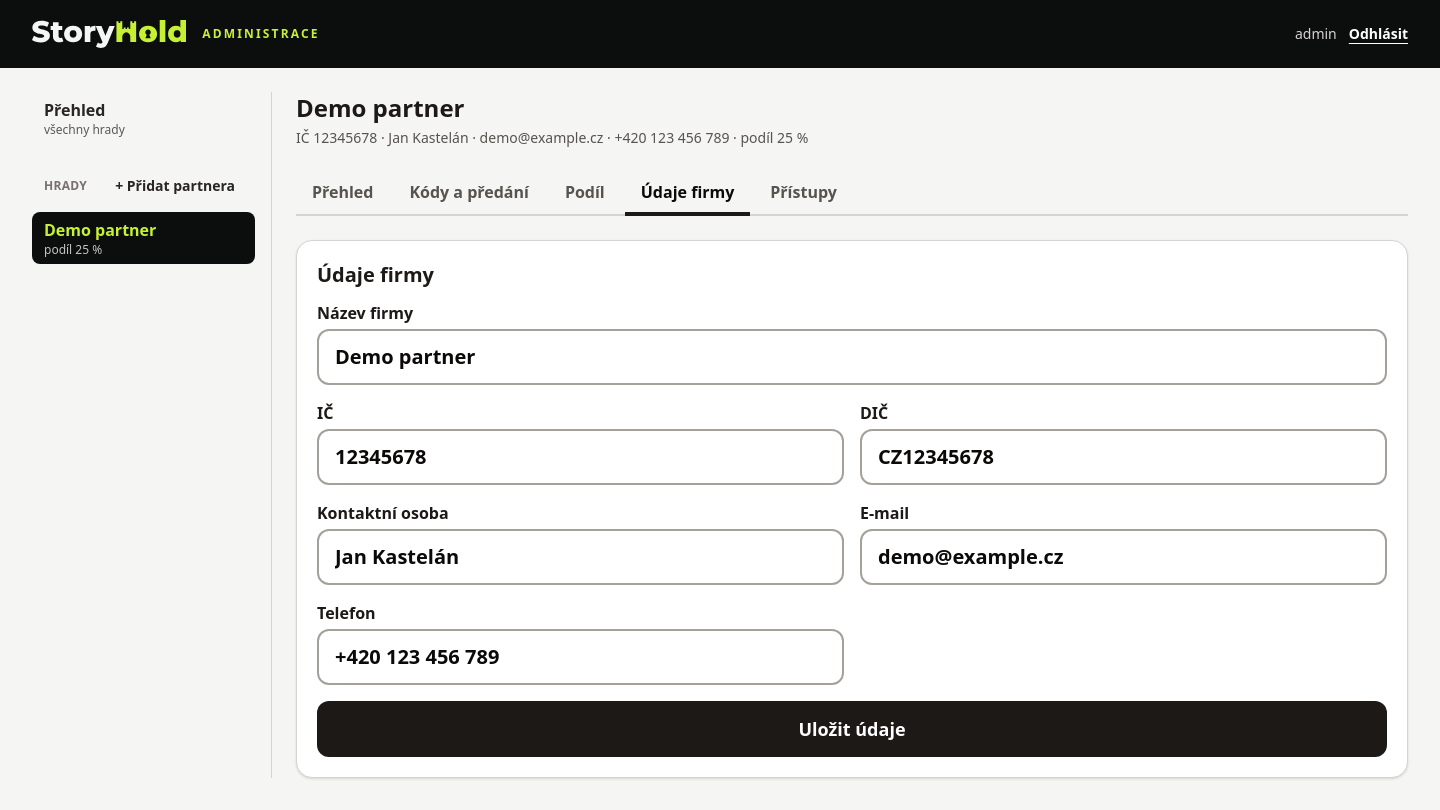
Scenario: AdminPage — operator › edits company details
This screenshot has width=1440, height=810.
Clear the field labelled "Telefon": (580, 657) [317,629,844,685]
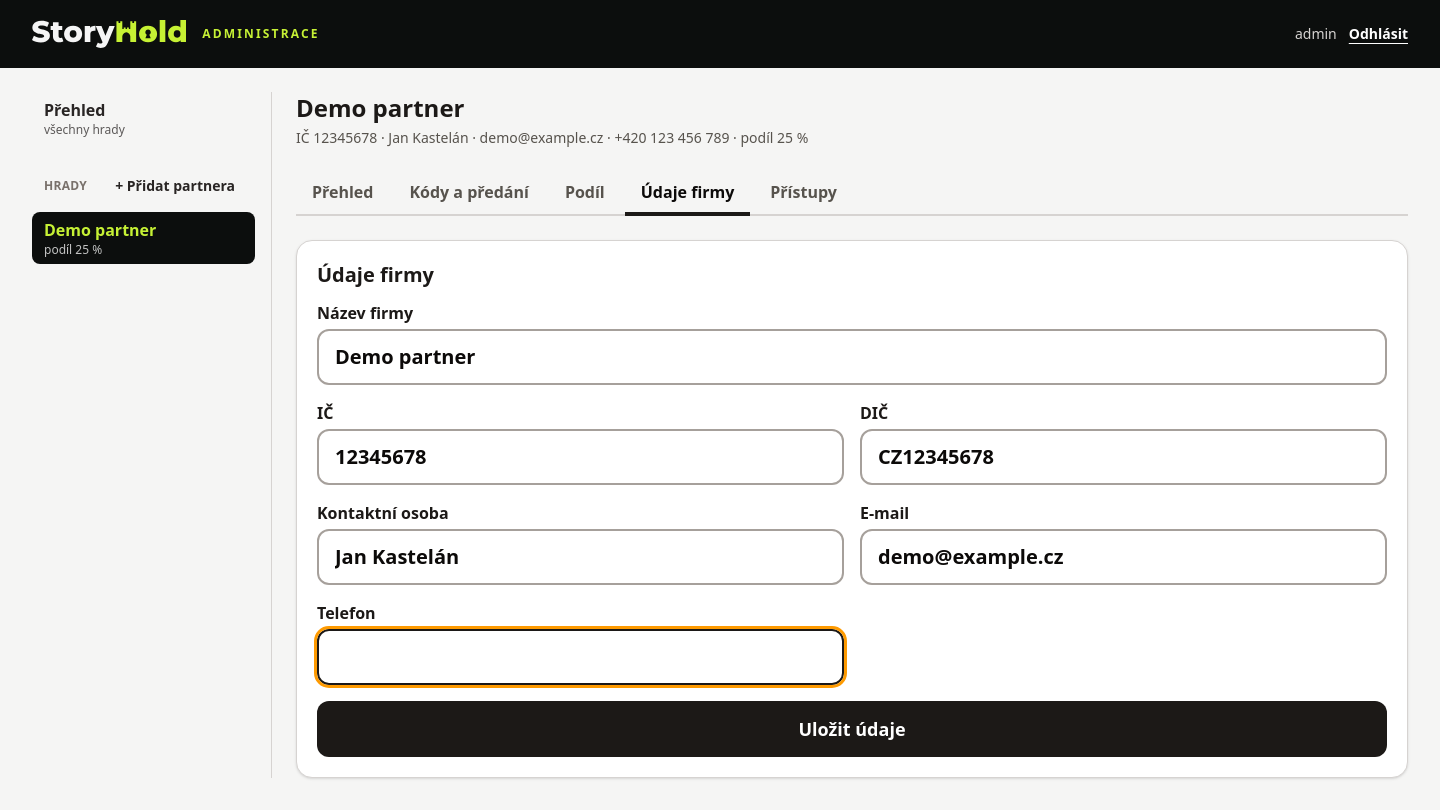
Click the button "Uložit údaje": (852, 729) [317,701,1387,757]
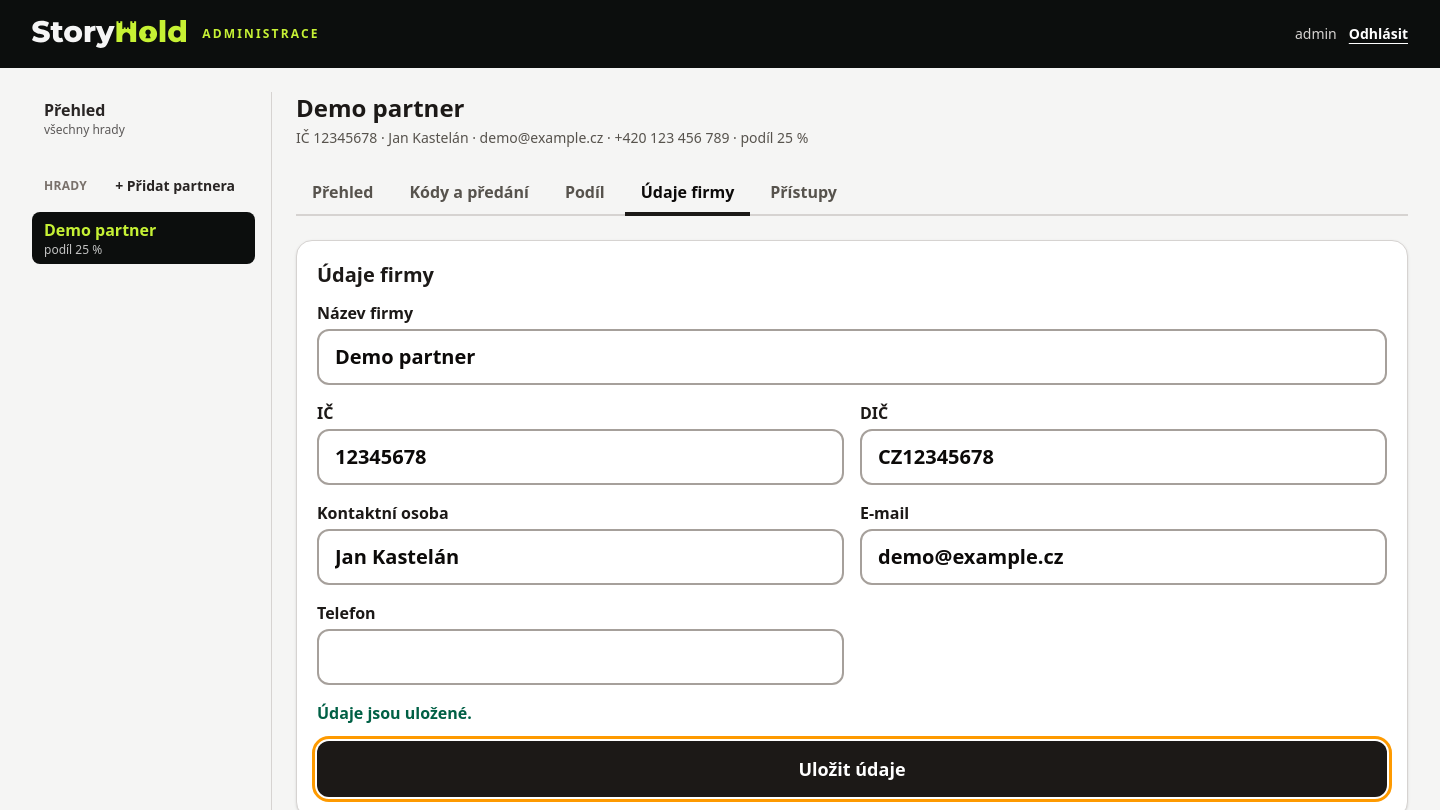
Expected: the text "Údaje jsou uložené." is shown, [317,702,472,724]
